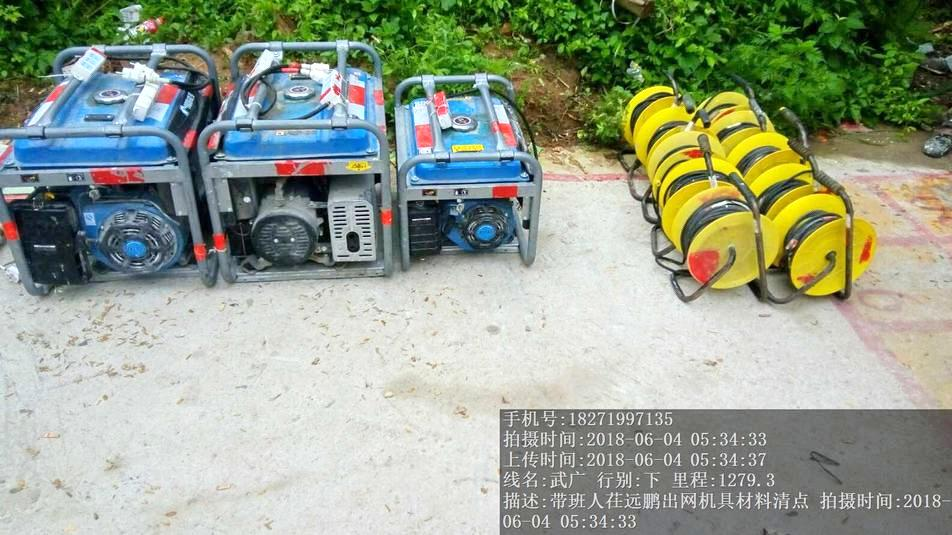DJ: (8, 49, 219, 292), (212, 43, 395, 280), (388, 71, 556, 271)
DX: (665, 194, 769, 306), (774, 191, 878, 303)
